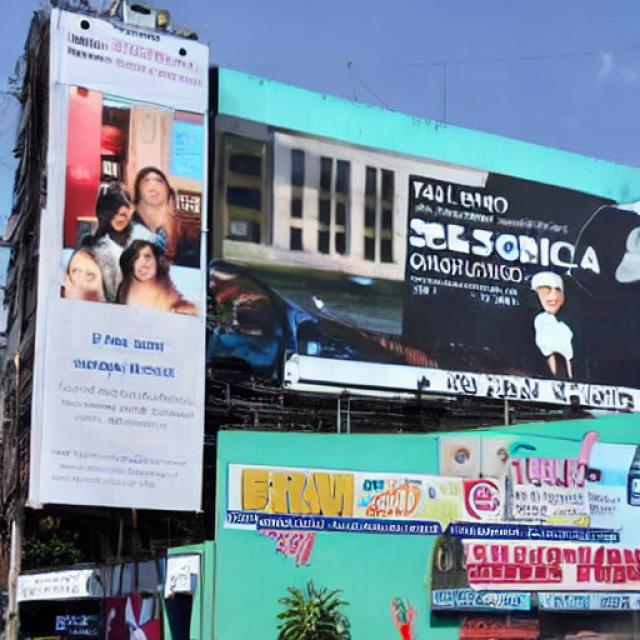Billboard: (218, 110, 640, 418), (24, 1, 210, 518)
